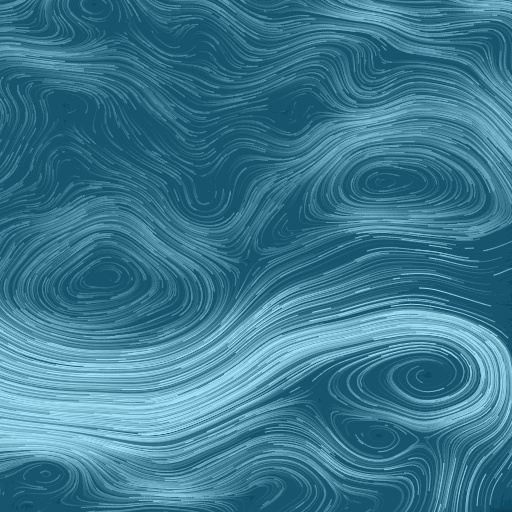eddy: (307, 138, 467, 225), (343, 332, 486, 419), (38, 235, 172, 318), (352, 422, 403, 458), (18, 457, 73, 490)
